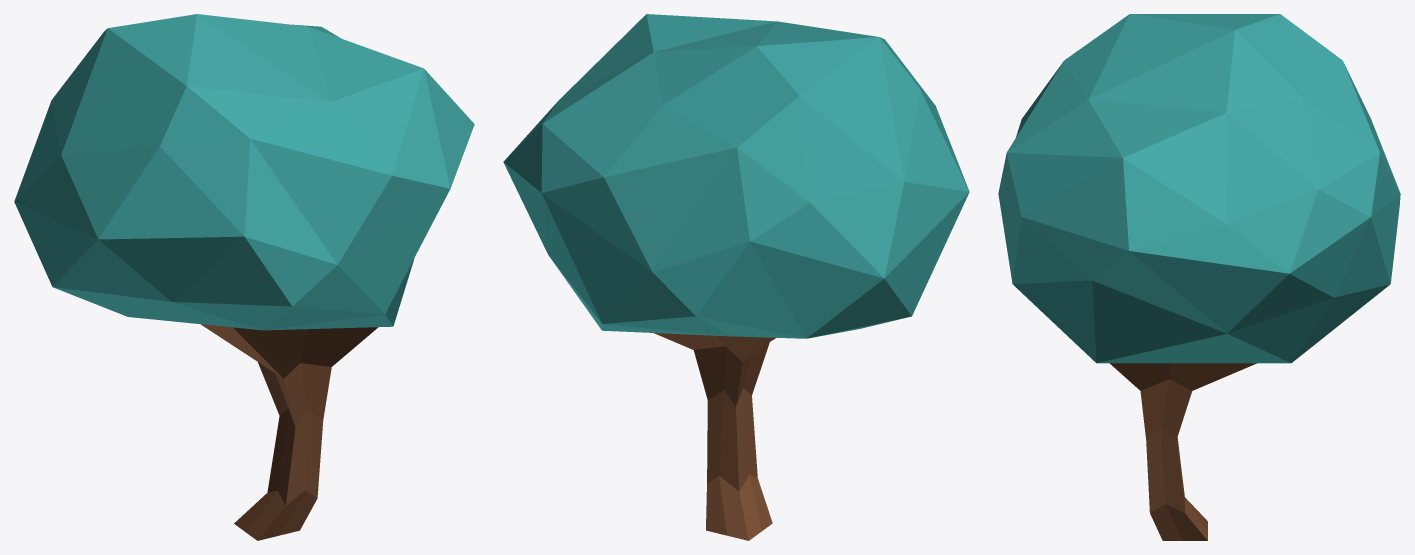
File: Tree_35_Blue.fbx
The picture shows the model from 3 angles, left to right: view 1: azimuth 30°, elevation 25°; view 2: azimuth 150°, elevation 25°; view 3: azimuth 270°, elevation 25°; orthographic projection. The views are drawn at different scales.
Parts seen in each view (by area): view 1: Tree_35_Blue_Part_1, Tree_35_Blue_Part_2; view 2: Tree_35_Blue_Part_1, Tree_35_Blue_Part_2; view 3: Tree_35_Blue_Part_1, Tree_35_Blue_Part_2.
Boxes of the visible parts, x1,y1,x2,y2 form: Tree_35_Blue_Part_1: [14, 14, 474, 330]; Tree_35_Blue_Part_2: [201, 324, 377, 540]; Tree_35_Blue_Part_1: [503, 14, 969, 338]; Tree_35_Blue_Part_2: [654, 333, 775, 540]; Tree_35_Blue_Part_1: [998, 14, 1400, 363]; Tree_35_Blue_Part_2: [1110, 363, 1256, 540].
Bounding box in the file's own units: 636 × 815 × 618.
